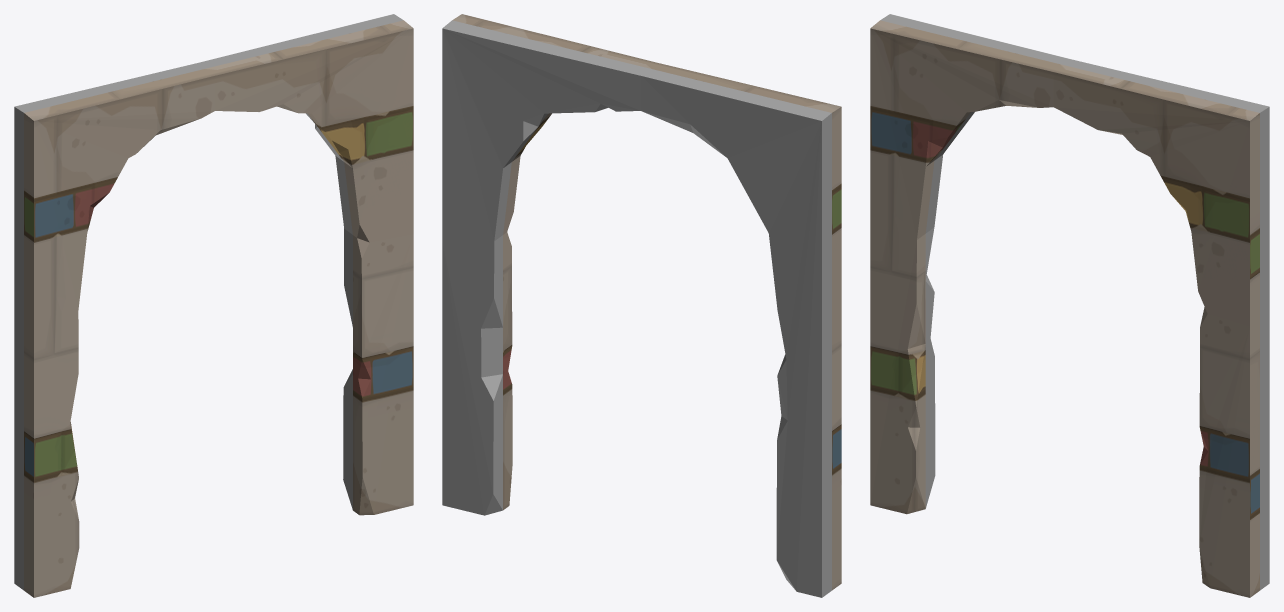
File: SM_Bld_Archway_01.fbx
The picture shows the model from 3 angles, left to right: view 1: azimuth 30°, elevation 25°; view 2: azimuth 150°, elevation 25°; view 3: azimuth 330°, elevation 25°; orthographic projection.
Visible parts, largest first — view 1: SM_Bld_Archway_01; view 2: SM_Bld_Archway_01; view 3: SM_Bld_Archway_01.
Boxes of the visible parts, left/top/right/bottom form: SM_Bld_Archway_01: left=14, top=14, right=413, bottom=597; SM_Bld_Archway_01: left=442, top=14, right=841, bottom=597; SM_Bld_Archway_01: left=870, top=14, right=1269, bottom=597.
Size of the model in its own units: 250 by 301 by 22.5.
